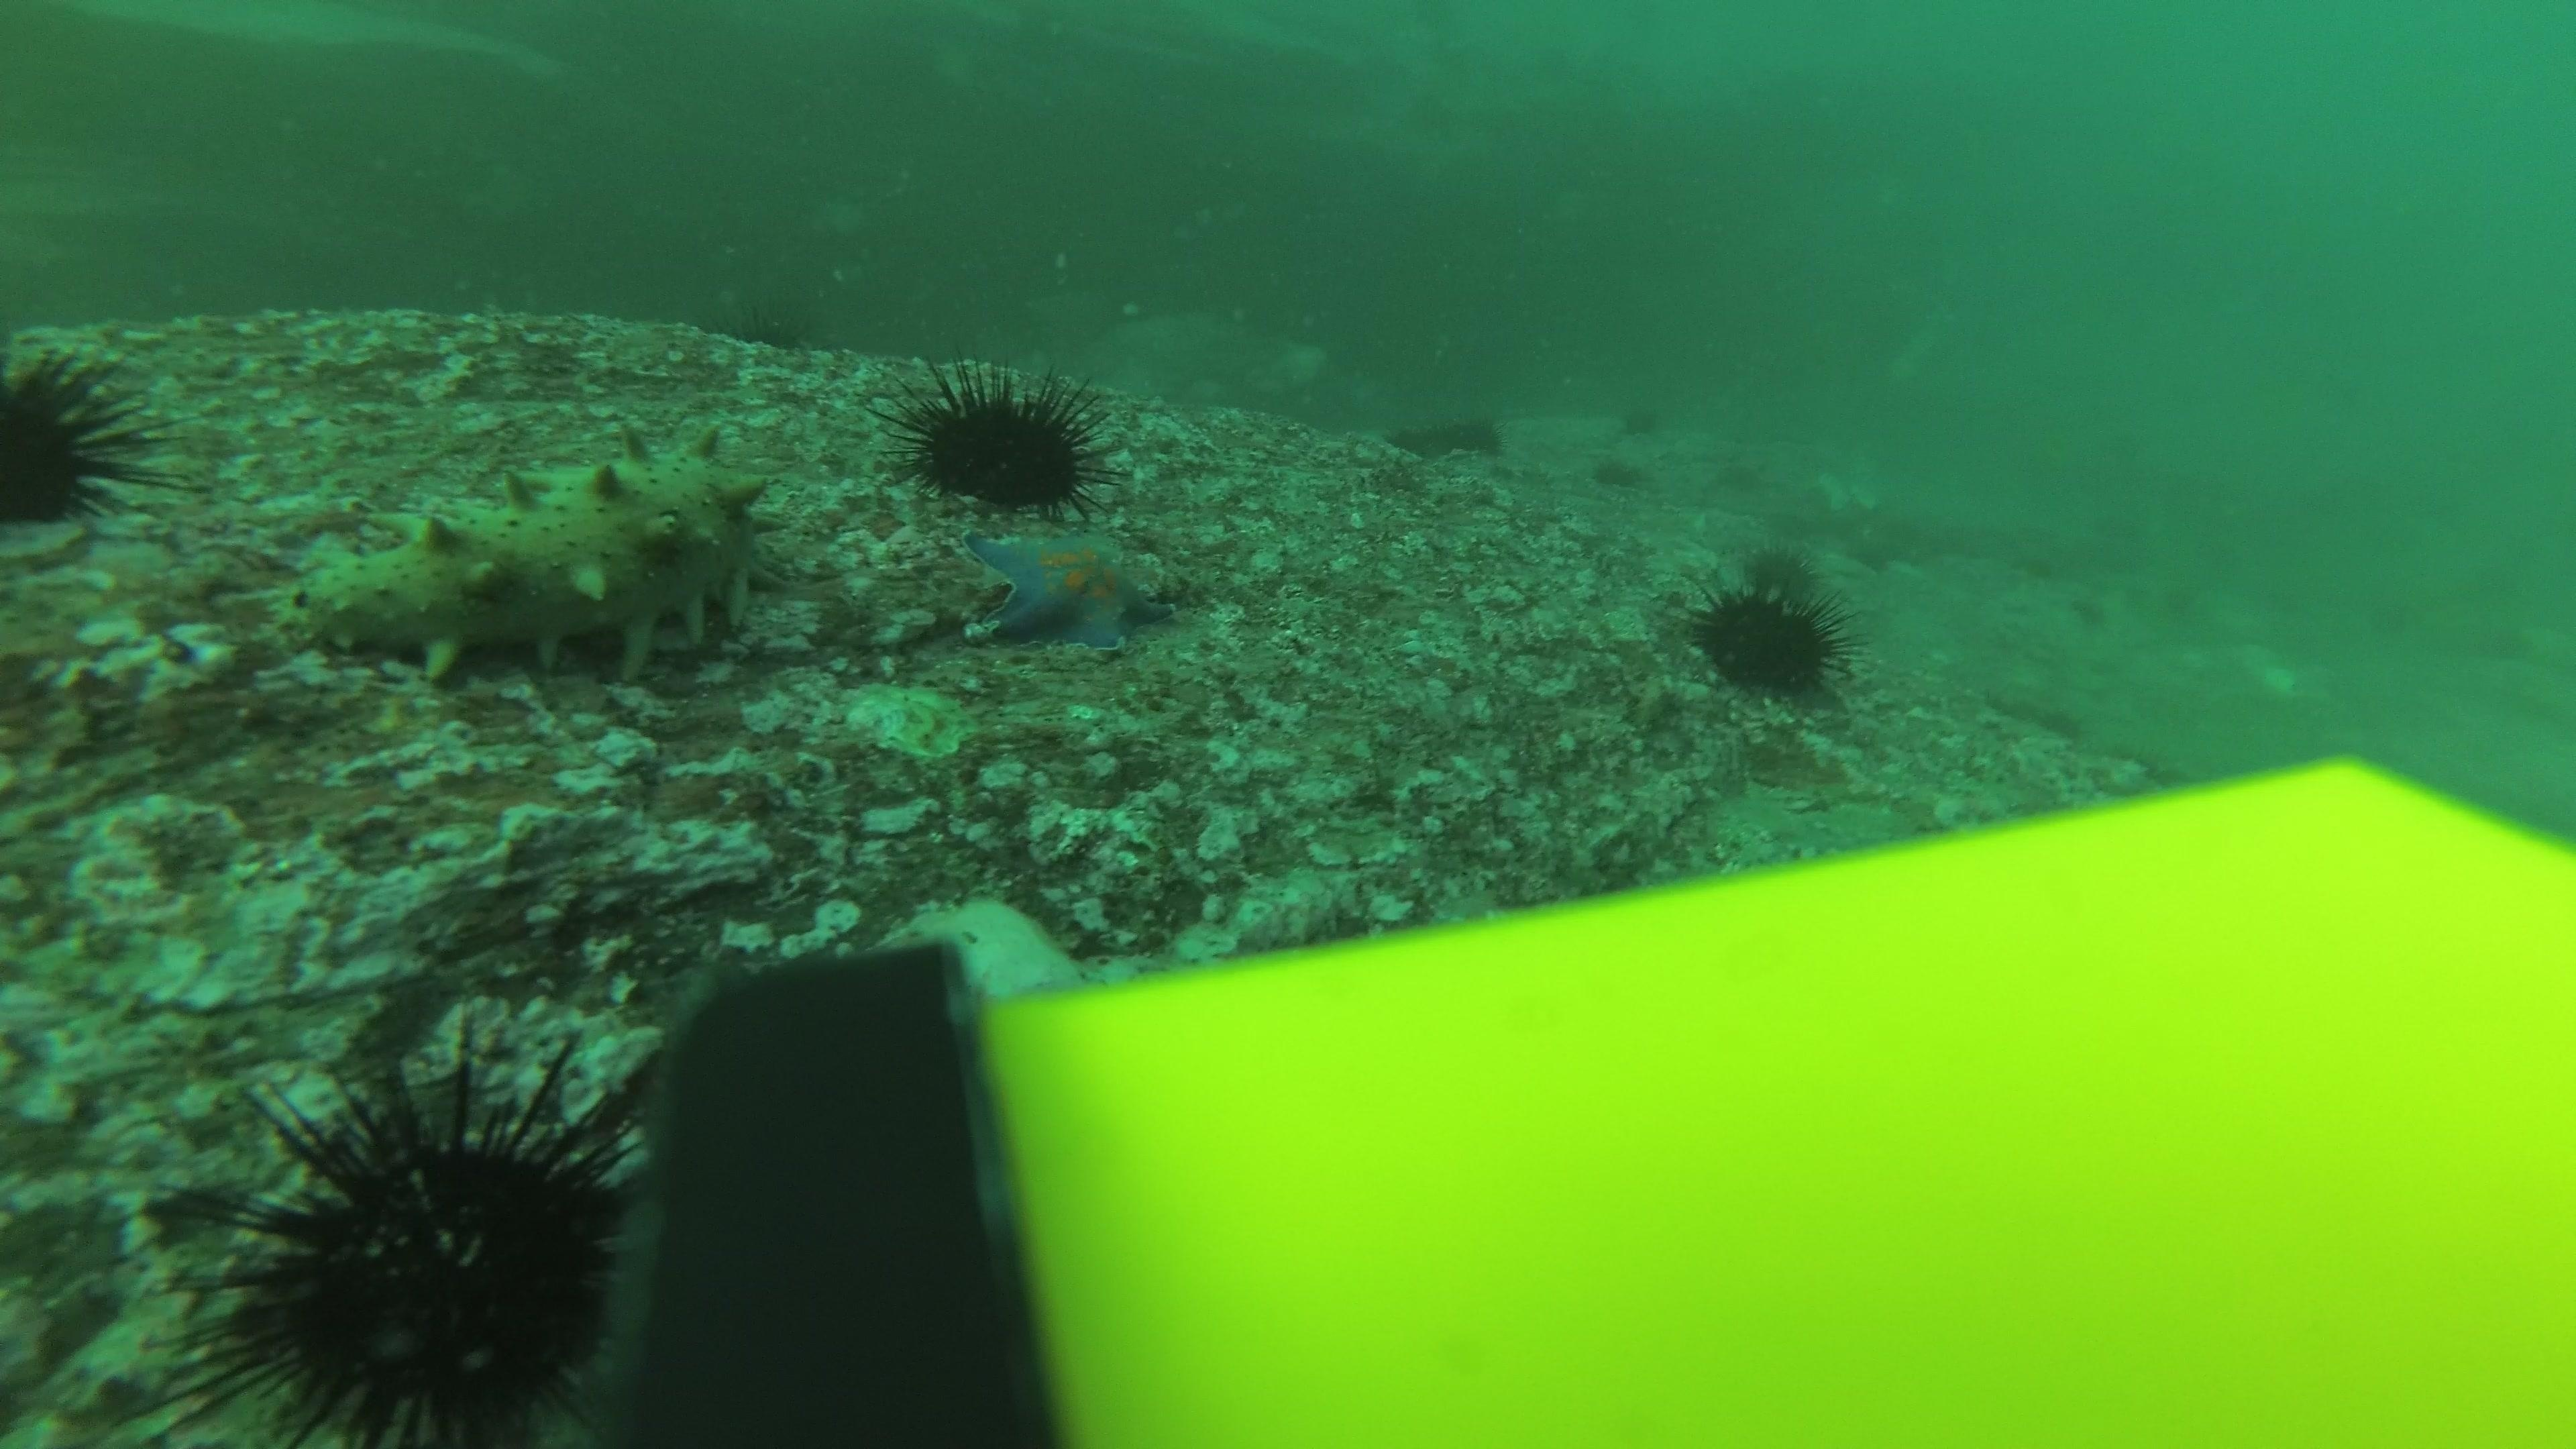echinus: (175, 1040, 658, 1440), (892, 361, 1108, 515), (2, 338, 163, 541), (1686, 559, 1854, 704), (1391, 414, 1451, 469), (1445, 407, 1504, 460), (1606, 387, 1668, 435), (1591, 446, 1652, 492), (2015, 541, 2059, 582), (2160, 573, 2204, 614), (2068, 589, 2111, 630), (1725, 460, 1767, 501)
holothurian: (292, 439, 780, 685)
starfish: (959, 515, 1180, 658)
